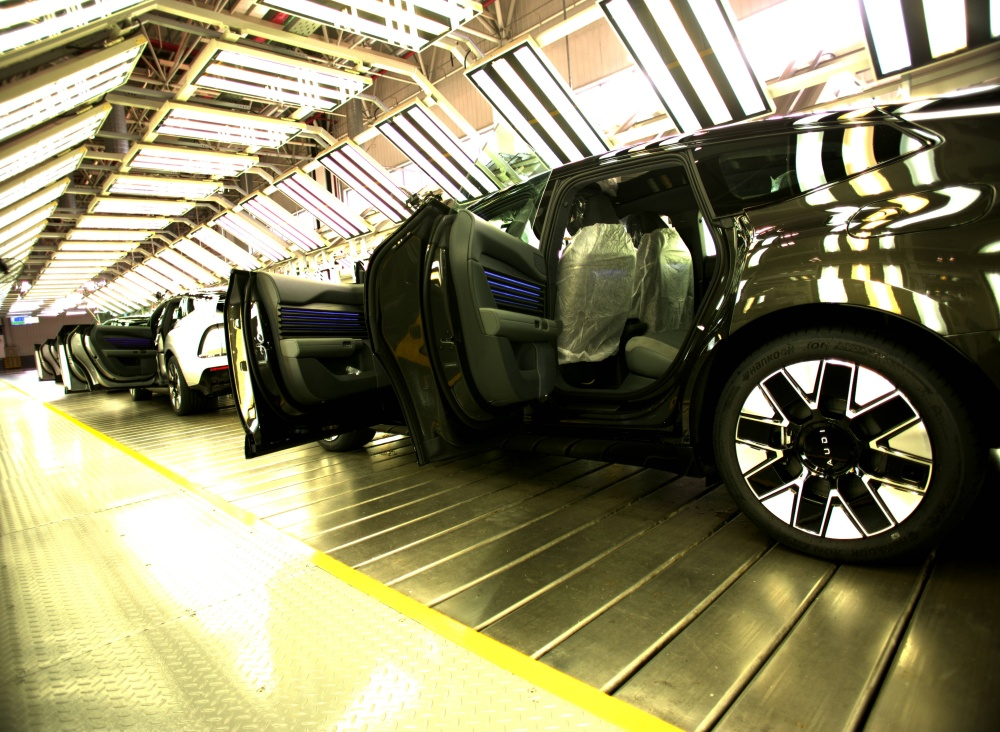armrest_color: (479, 312, 561, 346), (276, 335, 366, 358)
panel_color: (480, 263, 548, 317), (275, 298, 359, 333)
